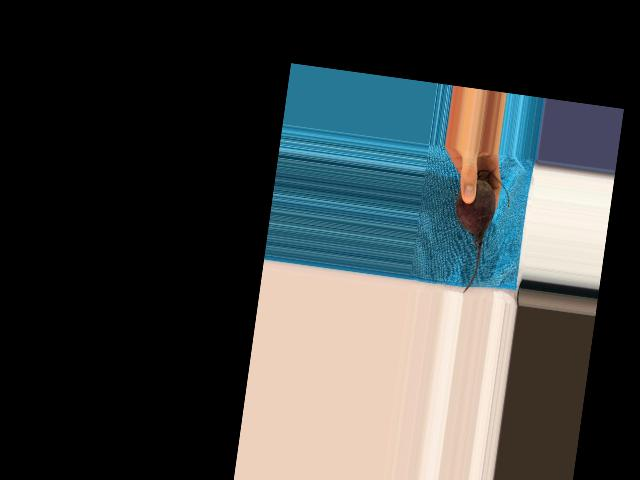beet: (443, 167, 512, 297)
